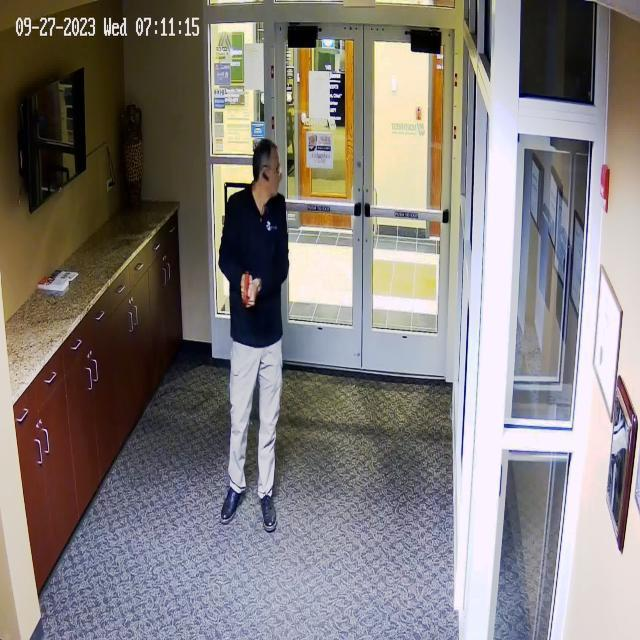Gun: (222, 268, 269, 318)
